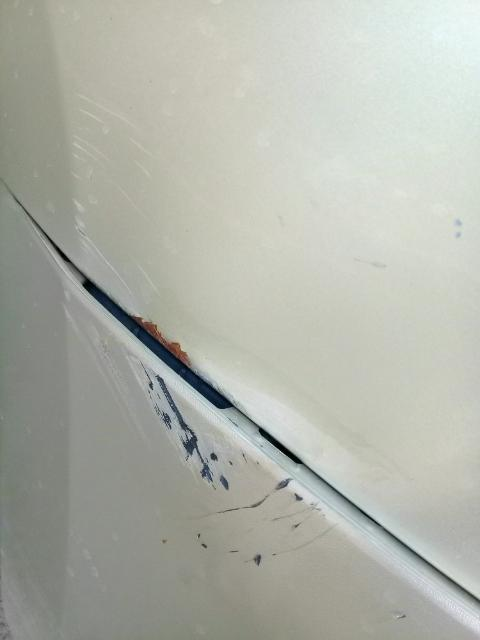scratch: (60, 293, 355, 577), (73, 93, 156, 325)
